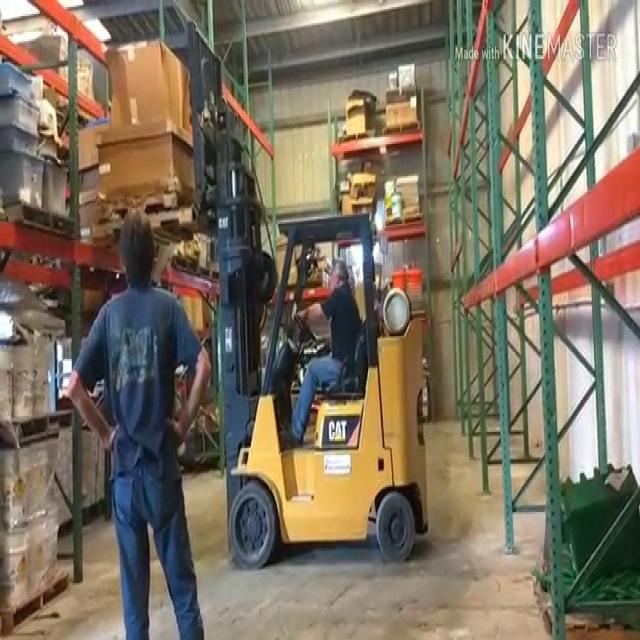Chariot elevateur: (210, 163, 435, 578)
